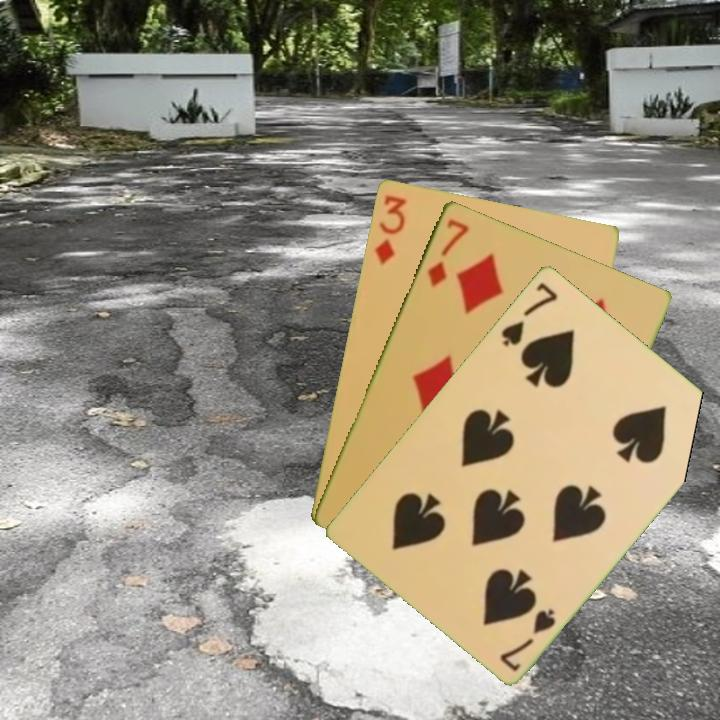3d: (371, 191, 409, 269)
7d: (423, 214, 472, 289)
7s: (497, 278, 561, 349), (496, 604, 559, 674)
